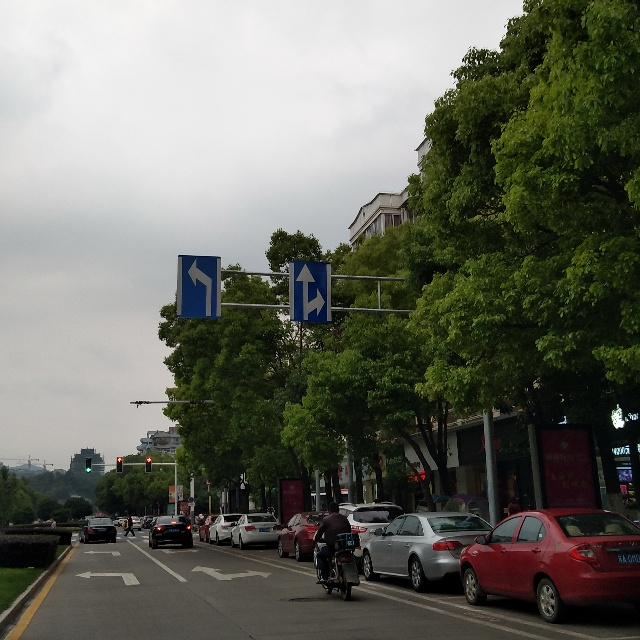left: (175, 253, 222, 319)
